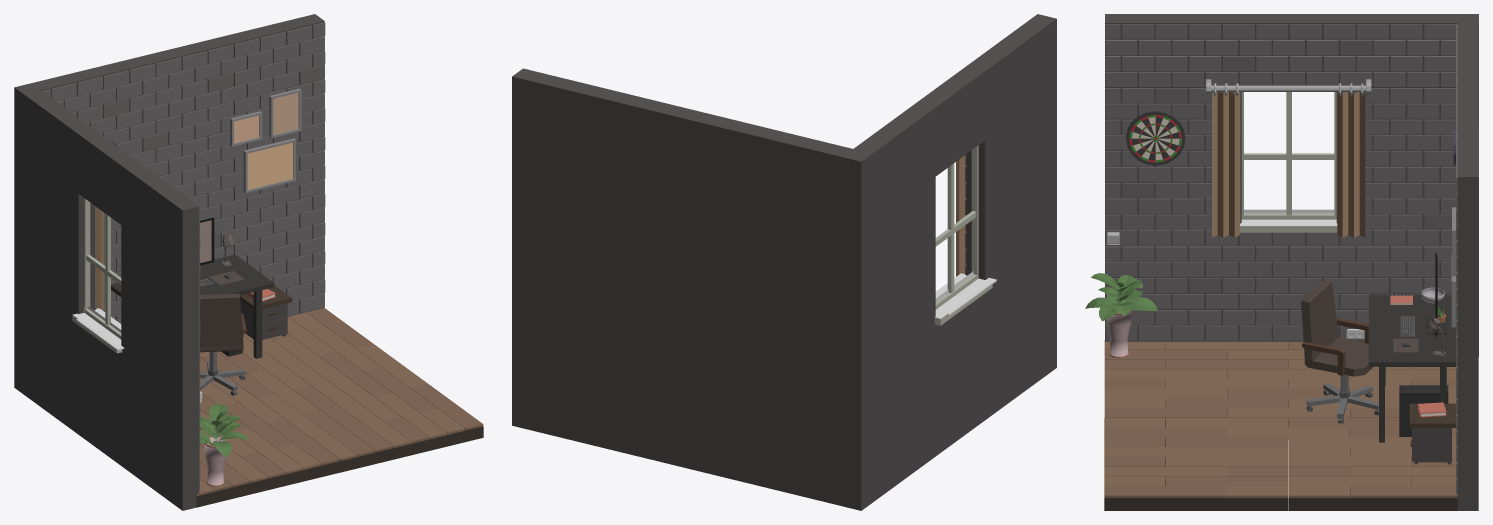
The model's file is Room.blend56A92E98-C010-40E4-97D7-DBA9C3167F46.glb.
3 renders of one model, left to right at view 1: azimuth 30°, elevation 25°; view 2: azimuth 150°, elevation 25°; view 3: azimuth 270°, elevation 25°, orthographic. The views are drawn at different scales.
Visible parts, largest first — view 1: Wall_02, Wall_01, Floor, OfficeChair, Table, Picture_01, Bed_Table, Picture_02, Flower_03, Picture_03, Curtains, Flower_02 (+2 smaller); view 2: Wall_01, Wall_02, Curtains, Plane; view 3: Wall_02, Floor, Wall_01, Curtains, OfficeChair, Table, Darts, Bed_Table, Flower_03, PC, Flower_02, Plane.
Boxes of the visible parts, x1,y1,x2,y2 form: Wall_02: [14, 83, 200, 510]; Wall_01: [31, 14, 325, 323]; Floor: [196, 308, 483, 507]; OfficeChair: [199, 293, 246, 395]; Table: [111, 254, 274, 358]; Picture_01: [243, 138, 295, 193]; Bed_Table: [240, 285, 292, 339]; Picture_02: [269, 88, 301, 138]; Flower_03: [199, 404, 247, 457]; Picture_03: [230, 111, 262, 146]; Curtains: [95, 207, 104, 311]; Flower_02: [204, 436, 227, 486]; Wall_01: [512, 68, 856, 505]; Wall_02: [842, 14, 1056, 510]; Curtains: [956, 155, 966, 276]; Plane: [934, 273, 991, 319]; Wall_02: [1105, 14, 1478, 356]; Floor: [1104, 340, 1457, 510]; Wall_01: [1456, 21, 1478, 510]; Curtains: [1205, 79, 1371, 237]; OfficeChair: [1301, 280, 1378, 423]; Table: [1368, 294, 1455, 442]; Darts: [1126, 111, 1185, 165]; Bed_Table: [1409, 403, 1455, 464]; Flower_03: [1085, 273, 1157, 321]; PC: [1398, 385, 1448, 436]; Flower_02: [1107, 310, 1131, 357]; Plane: [1240, 219, 1337, 226].
Size of the model in its own units: 2.94 by 2.74 by 2.93.
